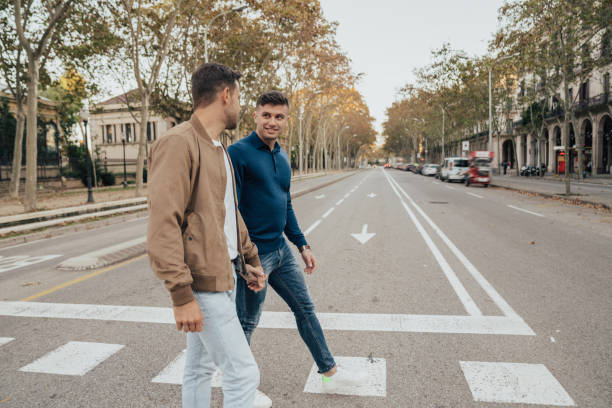yaya: (131, 55, 265, 407), (250, 83, 351, 376)
